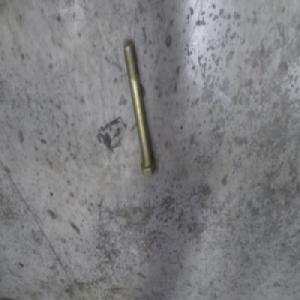Bolt: (123, 42, 157, 178)
